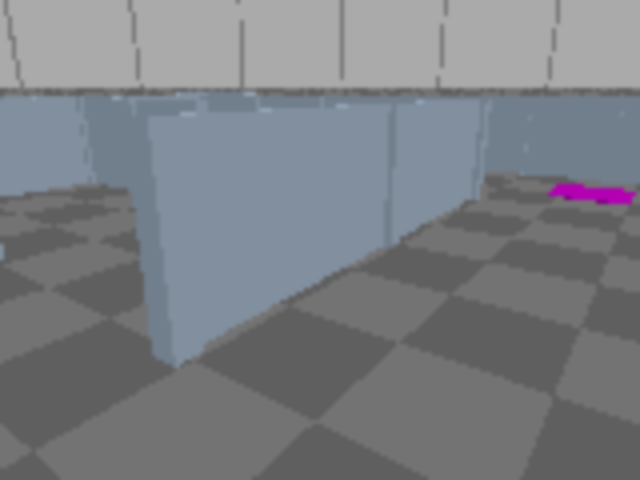goal_zone: (546, 184, 636, 206)
